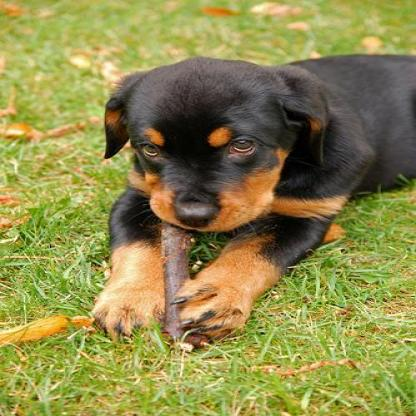Rottweiler: (90, 54, 412, 346)
